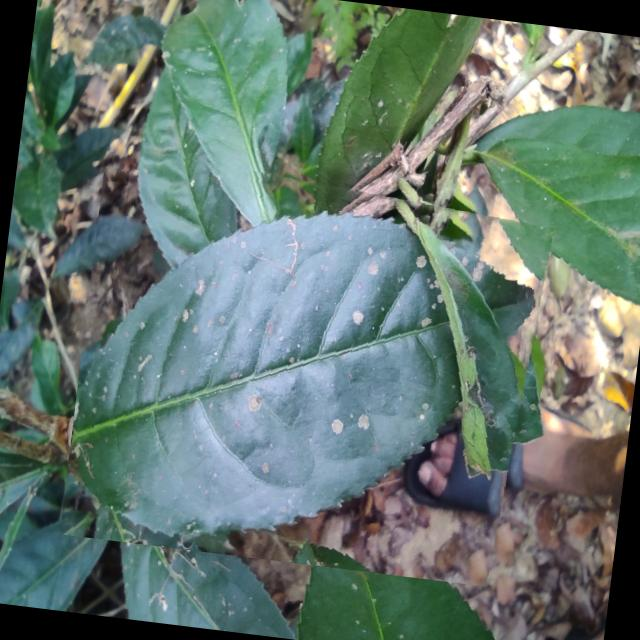Category D(7+ days, Not for Tea): (59, 143, 558, 589)
